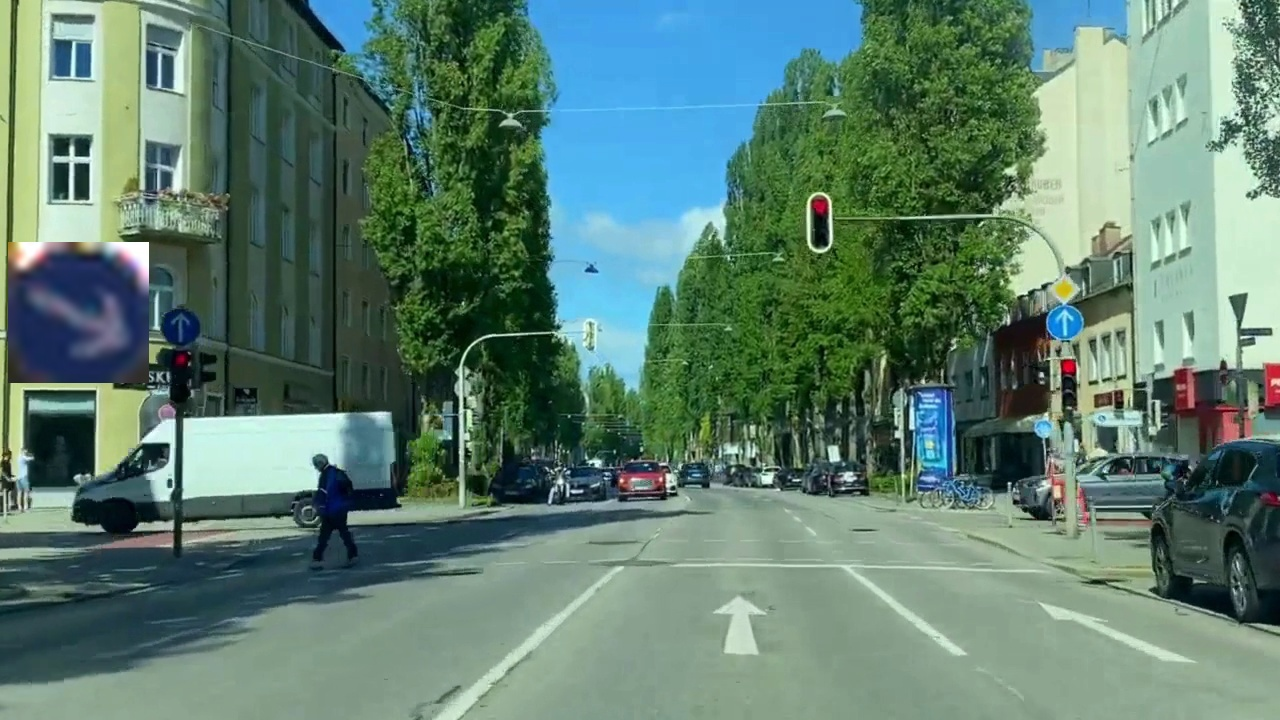Keep right: (8, 242, 149, 383)
